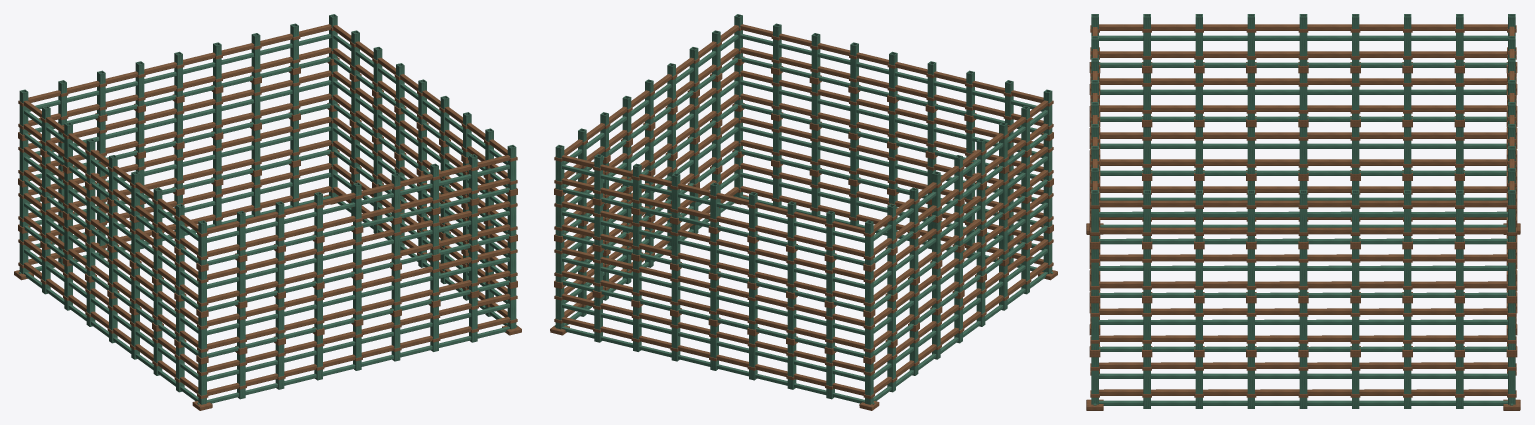
The picture shows the model from 3 angles, left to right: view 1: azimuth 30°, elevation 25°; view 2: azimuth 150°, elevation 25°; view 3: azimuth 270°, elevation 25°; orthographic projection. The views are drawn at different scales.
Visible parts, largest first — view 1: no part large enough to name; view 2: no part large enough to name; view 3: Tier 0 side 1 post 4, Tier 3 side 1 post 4, Tier 3 side 3 post 4.
Boxes of the visible parts, left/top/right/bottom form: Tier 0 side 1 post 4: left=1299, top=357, right=1307, bottom=408; Tier 3 side 1 post 4: left=1299, top=190, right=1307, bottom=241; Tier 3 side 3 post 4: left=1299, top=14, right=1307, bottom=65.
Bounding box in the file's own units: 3.75 × 2.06 × 3.75.
2 materials, 2 textured.
